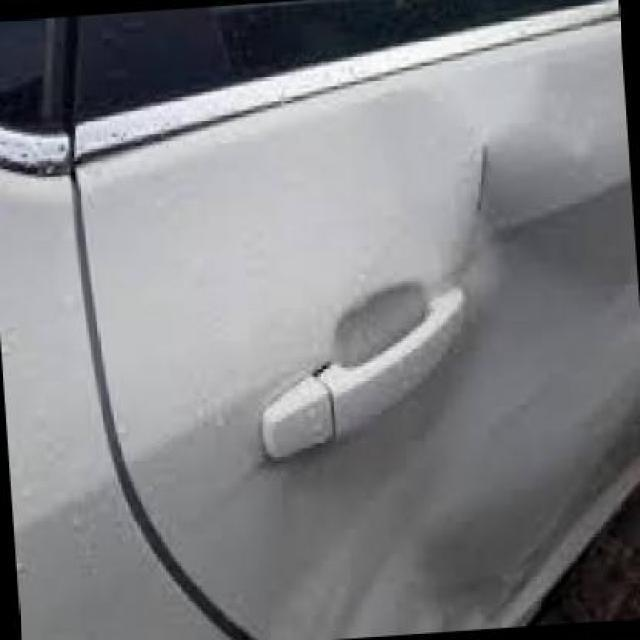dent: (446, 130, 600, 317)
